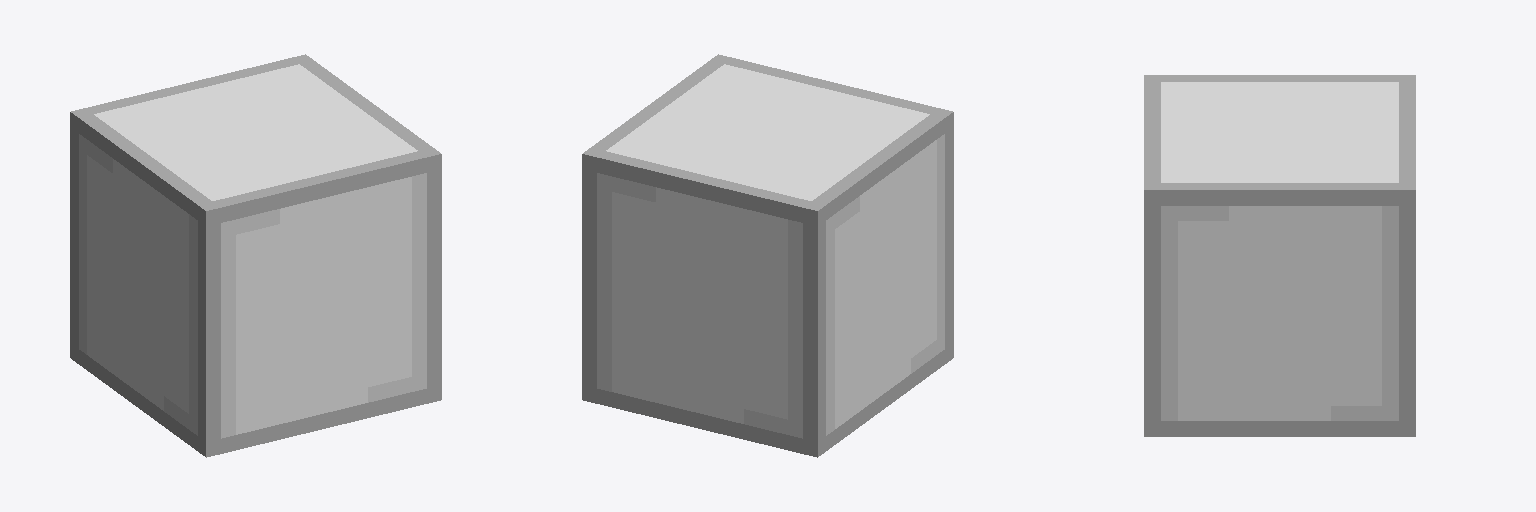
3 renders of one model, left to right at view 1: azimuth 30°, elevation 25°; view 2: azimuth 150°, elevation 25°; view 3: azimuth 270°, elevation 25°, orthographic.
Visible parts, largest first — view 1: object 1; view 2: object 1; view 3: object 1.
Part boxes in pixels (bbox=[...]): object 1: bbox=[70, 54, 441, 457]; object 1: bbox=[582, 54, 953, 457]; object 1: bbox=[1144, 75, 1415, 436].
Bounding box in the file's own units: 1.6 × 1.6 × 1.6.
Materials: 1 (1 with a texture image).